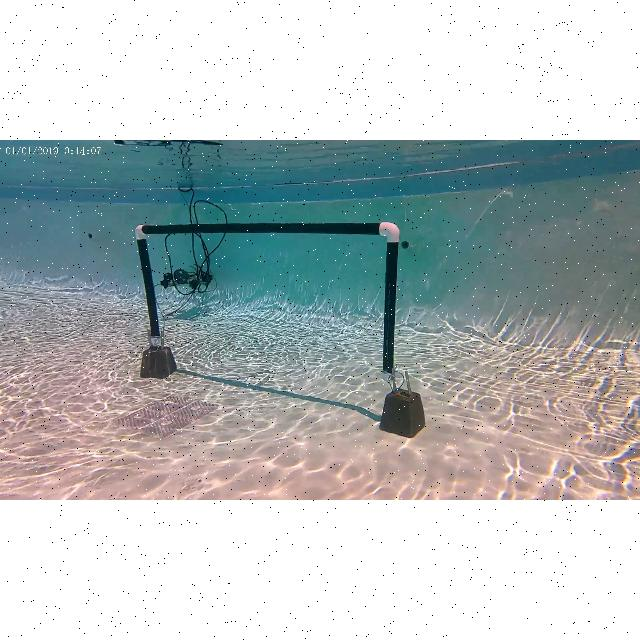prequal gate: (136, 223, 400, 381)
prequal gate leg l: (130, 220, 166, 346)
prequal gate leg r: (378, 220, 402, 376)
